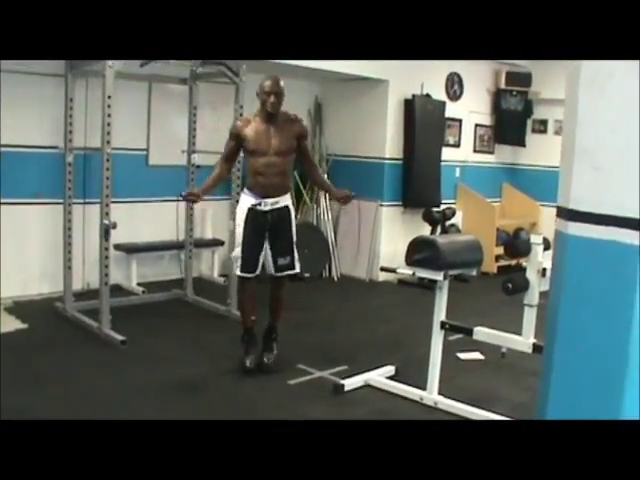person: (184, 76, 353, 376)
